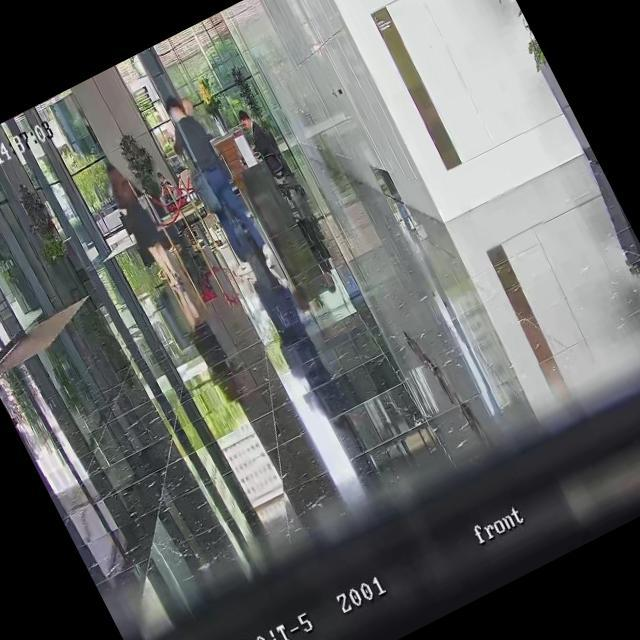person: (152, 87, 274, 274), (96, 154, 189, 300), (234, 101, 294, 186), (151, 168, 185, 215)
